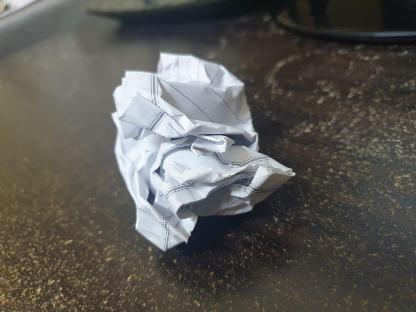Paper: (111, 50, 299, 250)
